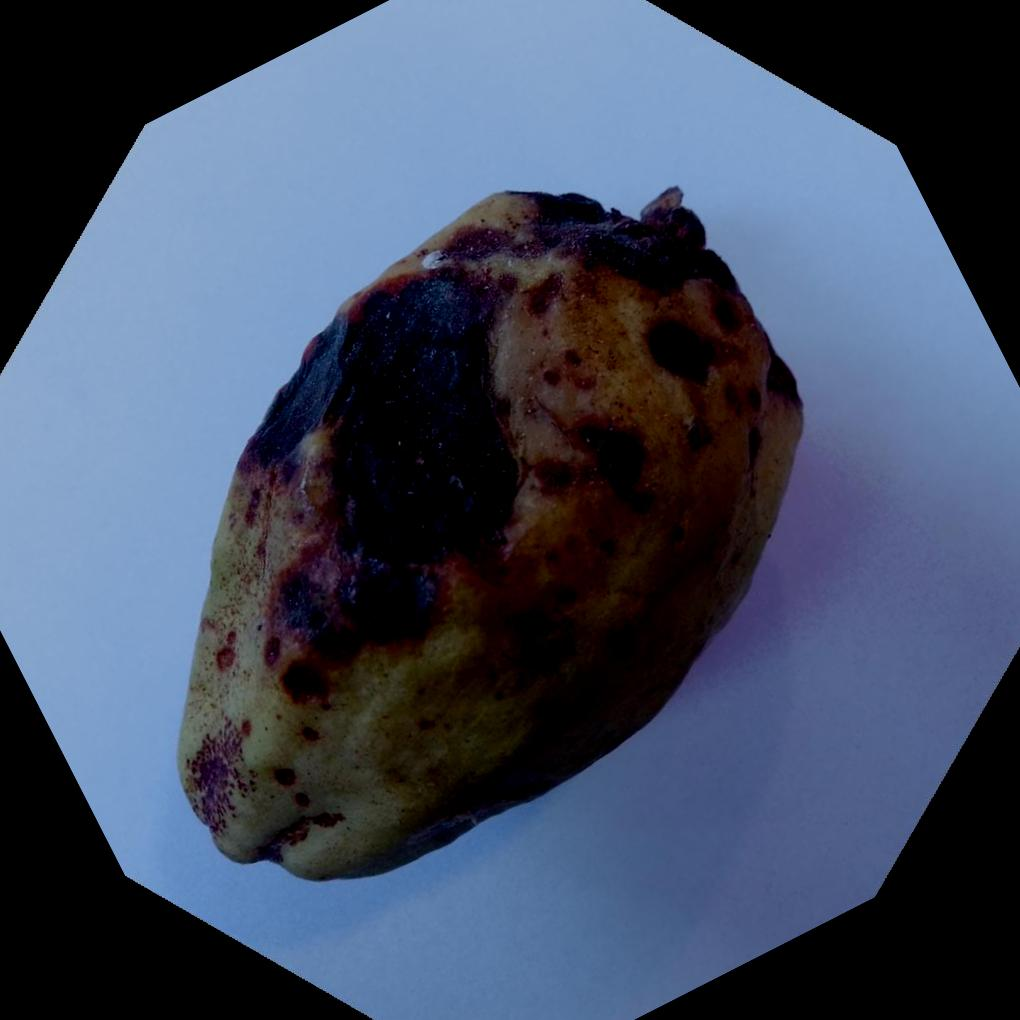FreshOrange: (171, 186, 801, 884)
